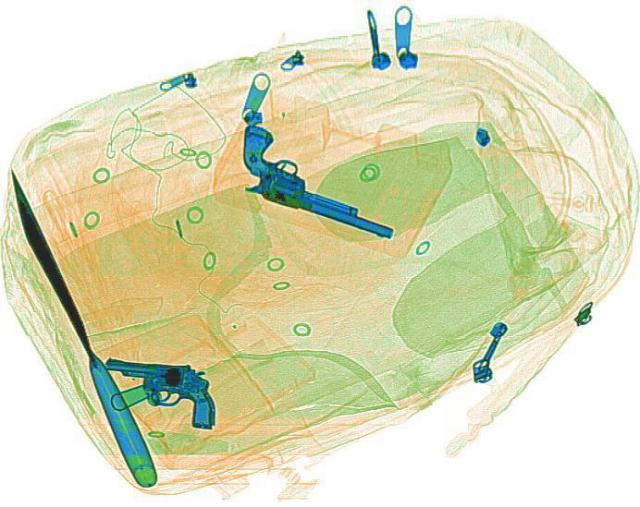Gun: (208, 121, 422, 241), (99, 358, 220, 429)
Knife: (0, 176, 164, 487)
